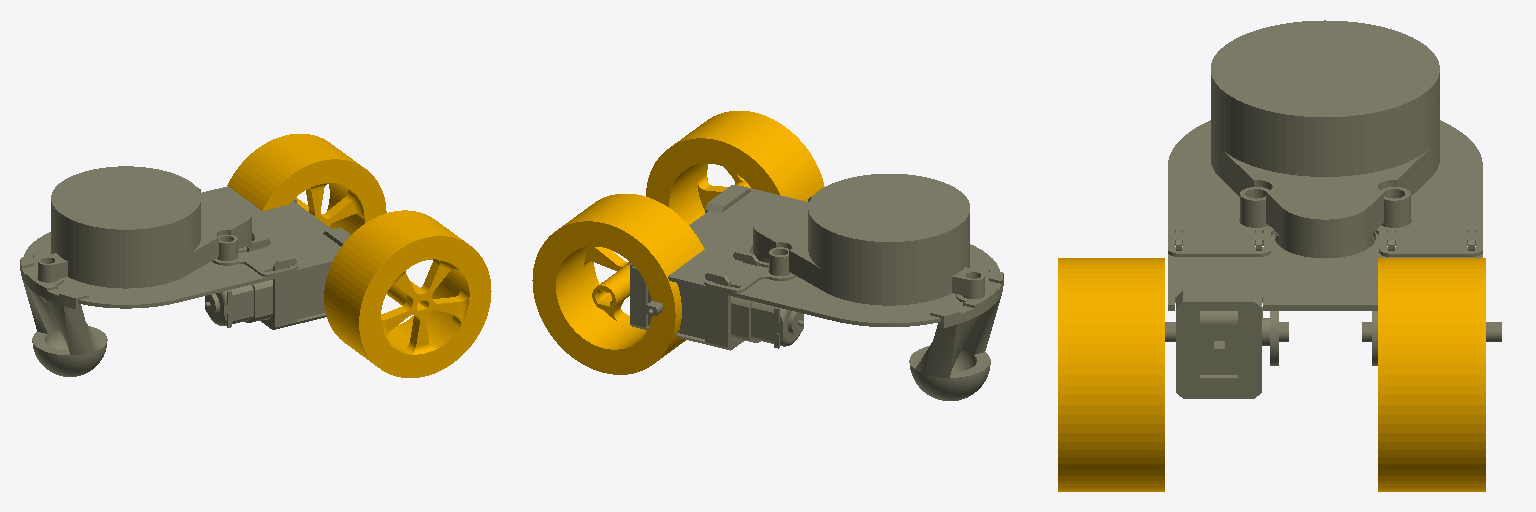
URDF robot description (little red rover):
<robot name="little red rover">
<link name="base_link"></link>
<joint name="base_link_to_base" type="fixed">
<parent link="base_link"/>
<child link="robot_body" />
<origin rpy="0.0 0 0" xyz="0 0 0"/>
</joint>
<link name="robot_body">
<collision>
<origin xyz="0.086199999999999998845 0 0.0013000000000000018919" rpy="5.9164567891575902922e-31 6.1629758220391558245e-32 -3.141592653589793116" />
<geometry>
<mesh filename="package://little_red_rover/description/rover/skid.stl"/>
</geometry>
</collision>
<collision>
<origin xyz="0.011300000000000209183 0.027499999999999965444 -0.013199999999999803904" rpy="9.992007221626410836e-16 -1.570796326794896336 0" />
<geometry>
<mesh filename="package://little_red_rover/description/rover/tt_motor_mount.stl"/>
</geometry>
</collision>
<collision>
<origin xyz="0.086199999999999998845 0 0.0025999999999999990133" rpy="-3.141592653589793116 6.1629758220391558245e-32 -3.141592653589793116" />
<geometry>
<mesh filename="package://little_red_rover/description/rover/motor_attachment_shim.stl"/>
</geometry>
</collision>
<collision>
<origin xyz="0.011199999999999940906 0.027499999999999948097 -0.013199999999999987785" rpy="4.8461212225579072311e-32 -1.570796326794896558 0" />
<geometry>
<mesh filename="package://little_red_rover/description/rover/motor_mount_shim.stl"/>
</geometry>
</collision>
<collision>
<origin xyz="0.086199999999999998845 0 0.0016000000000000000767" rpy="5.9164567891575902922e-31 6.1629758220391558245e-32 -3.141592653589793116" />
<geometry>
<mesh filename="package://little_red_rover/description/rover/lidar_motor.stl"/>
</geometry>
</collision>
<collision>
<origin xyz="0.086199999999999998845 0 0.0016000000000000000767" rpy="5.9164567891575902922e-31 6.1629758220391558245e-32 -3.141592653589793116" />
<geometry>
<mesh filename="package://little_red_rover/description/rover/pcb.stl"/>
</geometry>
</collision>
<collision>
<origin xyz="0.086199999999999998845 0 0.0016000000000000000767" rpy="5.9164567891575902922e-31 6.1629758220391558245e-32 -3.141592653589793116" />
<geometry>
<mesh filename="package://little_red_rover/description/rover/lidar_top.stl"/>
</geometry>
</collision>
<collision>
<origin xyz="0.011199999999999783046 -0.027499999999999861361 -0.0132000000000004232" rpy="4.8461212225578935465e-32 -1.570796326794896558 0" />
<geometry>
<mesh filename="package://little_red_rover/description/rover/motor_mount_shim.stl"/>
</geometry>
</collision>
<collision>
<origin xyz="0.086199999999999998845 0 0.0016000000000000000767" rpy="5.9164567891575902922e-31 6.1629758220391558245e-32 -3.141592653589793116" />
<geometry>
<mesh filename="package://little_red_rover/description/rover/motor_attachment_shim.stl"/>
</geometry>
</collision>
<collision>
<origin xyz="0.011299999999999740807 -0.02750000000000005565 -0.013200000000000180339" rpy="-6.5919492087118649866e-16 -1.5707963267948958919 0" />
<geometry>
<mesh filename="package://little_red_rover/description/rover/tt_motor_mount.stl"/>
</geometry>
</collision>
<collision>
<origin xyz="0.011199999999999940906 0.027499999999999948097 -0.013199999999999987785" rpy="3.141592653589793116 1.570796326794896558 0" />
<geometry>
<mesh filename="package://little_red_rover/description/rover/tt_motor_3777_v10.stl"/>
</geometry>
</collision>
<collision>
<origin xyz="0.011199999999999940906 0.027499999999999948097 -0.013199999999999987785" rpy="3.141592653589793116 1.570796326794896558 0" />
<geometry>
<mesh filename="package://little_red_rover/description/rover/tt_motor_3777_v10.stl"/>
</geometry>
</collision>
<collision>
<origin xyz="0.011199999999999940906 0.027499999999999948097 -0.013199999999999987785" rpy="3.141592653589793116 1.570796326794896558 0" />
<geometry>
<mesh filename="package://little_red_rover/description/rover/tt_motor_3777_v10.stl"/>
</geometry>
</collision>
<collision>
<origin xyz="0.011199999999999940906 0.027499999999999948097 -0.013199999999999987785" rpy="3.141592653589793116 1.570796326794896558 0" />
<geometry>
<mesh filename="package://little_red_rover/description/rover/tt_motor_3777_v10.stl"/>
</geometry>
</collision>
<collision>
<origin xyz="0.011199999999999940906 0.027499999999999948097 -0.013199999999999987785" rpy="3.141592653589793116 1.570796326794896558 0" />
<geometry>
<mesh filename="package://little_red_rover/description/rover/tt_motor_3777_v10.stl"/>
</geometry>
</collision>
<collision>
<origin xyz="0.011199999999999940906 0.027499999999999948097 -0.013199999999999987785" rpy="3.141592653589793116 1.570796326794896558 0" />
<geometry>
<mesh filename="package://little_red_rover/description/rover/tt_motor_3777_v10.stl"/>
</geometry>
</collision>
<collision>
<origin xyz="0.011199999999999940906 0.027499999999999948097 -0.013199999999999987785" rpy="3.141592653589793116 1.570796326794896558 0" />
<geometry>
<mesh filename="package://little_red_rover/description/rover/tt_motor_3777_v10.stl"/>
</geometry>
</collision>
<collision>
<origin xyz="0.011199999999999940906 0.027499999999999948097 -0.013199999999999987785" rpy="3.141592653589793116 1.570796326794896558 0" />
<geometry>
<mesh filename="package://little_red_rover/description/rover/tt_motor_3777_v10.stl"/>
</geometry>
</collision>
<collision>
<origin xyz="0.011199999999999583553 -0.027500000000000041772 -0.013200000000000263606" rpy="4.8461212225578935465e-32 -1.570796326794896558 0" />
<geometry>
<mesh filename="package://little_red_rover/description/rover/tt_motor_3777_v10.stl"/>
</geometry>
</collision>
<collision>
<origin xyz="0.011199999999999583553 -0.027500000000000041772 -0.013200000000000263606" rpy="4.8461212225578935465e-32 -1.570796326794896558 0" />
<geometry>
<mesh filename="package://little_red_rover/description/rover/tt_motor_3777_v10.stl"/>
</geometry>
</collision>
<collision>
<origin xyz="0.011199999999999583553 -0.027500000000000041772 -0.013200000000000263606" rpy="4.8461212225578935465e-32 -1.570796326794896558 0" />
<geometry>
<mesh filename="package://little_red_rover/description/rover/tt_motor_3777_v10.stl"/>
</geometry>
</collision>
<collision>
<origin xyz="0.011199999999999583553 -0.027500000000000041772 -0.013200000000000263606" rpy="4.8461212225578935465e-32 -1.570796326794896558 0" />
<geometry>
<mesh filename="package://little_red_rover/description/rover/tt_motor_3777_v10.stl"/>
</geometry>
</collision>
<collision>
<origin xyz="0.011199999999999583553 -0.027500000000000041772 -0.013200000000000263606" rpy="4.8461212225578935465e-32 -1.570796326794896558 0" />
<geometry>
<mesh filename="package://little_red_rover/description/rover/tt_motor_3777_v10.stl"/>
</geometry>
</collision>
<collision>
<origin xyz="0.011199999999999583553 -0.027500000000000041772 -0.013200000000000263606" rpy="4.8461212225578935465e-32 -1.570796326794896558 0" />
<geometry>
<mesh filename="package://little_red_rover/description/rover/tt_motor_3777_v10.stl"/>
</geometry>
</collision>
<collision>
<origin xyz="0.011199999999999583553 -0.027500000000000041772 -0.013200000000000263606" rpy="4.8461212225578935465e-32 -1.570796326794896558 0" />
<geometry>
<mesh filename="package://little_red_rover/description/rover/tt_motor_3777_v10.stl"/>
</geometry>
</collision>
<collision>
<origin xyz="0.011199999999999583553 -0.027500000000000041772 -0.013200000000000263606" rpy="4.8461212225578935465e-32 -1.570796326794896558 0" />
<geometry>
<mesh filename="package://little_red_rover/description/rover/tt_motor_3777_v10.stl"/>
</geometry>
</collision>
<visual>
<origin xyz="0 0 0" rpy="0 -0 0" />
<geometry>
<mesh filename="package://little_red_rover/description/rover/robot_body_visual.stl"/>
</geometry>
<material name="robot_body_material">
<color rgba="0.54609856777458543053 0.54064903973685163319 0.45092154803549283626 1.0"/>
</material>
</visual>
<inertial>
<origin xyz="0.060449204032376087359 7.7383379246906946139e-07 0.00096772712774623387885" rpy="0 0 0"/>
<mass value="0.20115864605429473189" />
<inertia ixx="0.00013884041165555506764" ixy="8.9609098526709316419e-09"  ixz="-4.8036690735474946948e-05" iyy="0.00028515182973849886395" iyz="1.8756955665476016125e-09" izz="0.00031707325777148408089" />
</inertial>
</link>

<link name="lidar">
<inertial>
<origin xyz="0 0 0" rpy="0 0 0" />
<mass value="1e-9" />
<inertia ixx="0" ixy="0" ixz="0" iyy="0" iyz="0" izz="0" />
</inertial>
</link>
<joint name="lidar_frame" type="fixed">
<origin xyz="0.086200000000000123745 -1.3877787807814456755e-17 0.021884999999999994735" rpy="-3.141592653589793116 -3.2417252823925967892e-30 -3.141592653589793116" />
<parent link="robot_body" />
<child link="lidar" />
<axis xyz="0 0 0"/>
</joint>

<link name="base_footprint">
<inertial>
<origin xyz="0 0 0" rpy="0 0 0" />
<mass value="1e-9" />
<inertia ixx="0" ixy="0" ixz="0" iyy="0" iyz="0" izz="0" />
</inertial>
</link>
<joint name="base_footprint_frame" type="fixed">
<origin xyz="0.011199999999999710187 0 -0.043680000000000086813" rpy="-5.9164567891575902922e-31 -6.1629758220391558245e-32 4.8461212225578935465e-32" />
<parent link="robot_body" />
<child link="base_footprint" />
<axis xyz="0 0 0"/>
</joint>

<link name="wheel_left">
<collision>
<origin xyz="1.7347234759768070944e-18 3.4694469519536141888e-18 0.027940000000000006497" rpy="3.141592653589793116 1.2271765476015655665e-32 3.141592653589793116" />
<geometry>
<mesh filename="package://little_red_rover/description/rover/wheel_left.stl"/>
</geometry>
</collision>
<visual>
<origin xyz="0 0 0" rpy="0 -0 0" />
<geometry>
<mesh filename="package://little_red_rover/description/rover/wheel_left_visual.stl"/>
</geometry>
<material name="wheel_left_material">
<color rgba="0.98039215686274505668 0.71372549019607844922 0.0039215686274509803377 1.0"/>
</material>
</visual>
<inertial>
<origin xyz="2.4624181925708933181e-17 5.2769220575510987261e-17 0.014337453204997983869" rpy="0 0 0"/>
<mass value="0.060316879417403136687" />
<inertia ixx="2.3131869643683833067e-05" ixy="-7.2991310506283489438e-35"  ixz="3.2335595109475050861e-36" iyy="2.3131206012492695268e-05" iyz="-8.9573224432014851901e-67" izz="3.8316124169634600165e-05" />
</inertial>
</link>

<joint name="wheel_left" type="continuous">
<origin xyz="0.011199999999999927028 0.041799999999999955247 -0.013199999999999987785" rpy="-1.5707963267948970021 2.7802557667454690514e-14 -6.5919492087118866803e-16" />
<parent link="robot_body" />
<child link="wheel_left" />
<axis xyz="0 0 1"/>
<limit effort="1" velocity="20" />
<joint_properties friction="0.0"/>
</joint>

<link name="wheel_right">
<collision>
<origin xyz="-1.7347234759768070944e-18 3.4694469519536141888e-18 -0.027940000000000013436" rpy="0 3.636799630182036662e-32 0" />
<geometry>
<mesh filename="package://little_red_rover/description/rover/wheel_right.stl"/>
</geometry>
</collision>
<visual>
<origin xyz="0 0 0" rpy="0 -0 0" />
<geometry>
<mesh filename="package://little_red_rover/description/rover/wheel_right_visual.stl"/>
</geometry>
<material name="wheel_right_material">
<color rgba="0.98039215686274505668 0.71372549019607844922 0.0039215686274509803377 1.0"/>
</material>
</visual>
<inertial>
<origin xyz="-2.4641014283171756349e-17 5.2315348885724416726e-17 0.014337453204998053258" rpy="0 0 0"/>
<mass value="0.06031687941740355996" />
<inertia ixx="2.3131869643683951652e-05" ixy="0"  ixz="-2.2788539908587671319e-37" iyy="2.3131206012492810465e-05" iyz="0" izz="3.8316124169634722138e-05" />
</inertial>
</link>

<joint name="wheel_right" type="continuous">
<origin xyz="0.01119999999999957141 -0.041800000000000038514 -0.013200000000000263606" rpy="-1.5707963267948961139 6.257321276414477704e-14 3.1415926535897926719" />
<parent link="robot_body" />
<child link="wheel_right" />
<axis xyz="0 0 1"/>
<limit effort="1" velocity="20" />
<joint_properties friction="0.0"/>
</joint>


</robot>

--- What the picture shows (computed from the rendered views, not written in the file) ---
Views: 3 orthographic renders of the robot side by side, from view 1: azimuth 30°, elevation 25°; view 2: azimuth 150°, elevation 25°; view 3: azimuth 270°, elevation 25°.
Model little red rover with 6 links and 5 joints (2 continuous, 3 fixed), rooted at base_link, posed all joints at 0.
Visible links, largest first — view 1: robot_body, wheel_right, wheel_left; view 2: robot_body, wheel_left, wheel_right; view 3: robot_body, wheel_left, wheel_right.
Link boxes in pixels (left/top/right/bottom): robot_body: left=20, top=166, right=350, bottom=376; wheel_right: left=324, top=210, right=491, bottom=377; wheel_left: left=227, top=134, right=386, bottom=234; robot_body: left=630, top=174, right=1003, bottom=400; wheel_left: left=532, top=194, right=704, bottom=374; wheel_right: left=646, top=111, right=824, bottom=224; robot_body: left=1165, top=20, right=1501, bottom=398; wheel_left: left=1378, top=258, right=1485, bottom=491; wheel_right: left=1058, top=258, right=1164, bottom=491.
Size in the robot's own frame: 0.17 by 0.1158 by 0.073 metres.
3 mesh visuals loaded from 3 distinct referenced files (3 binary STL).